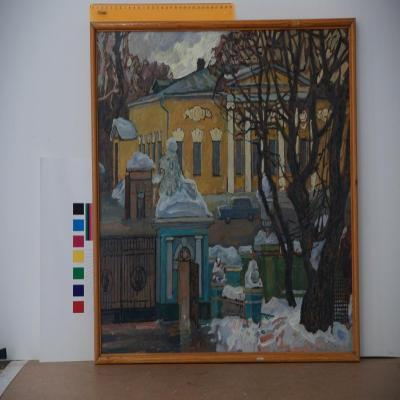painting: (90, 18, 360, 364)
